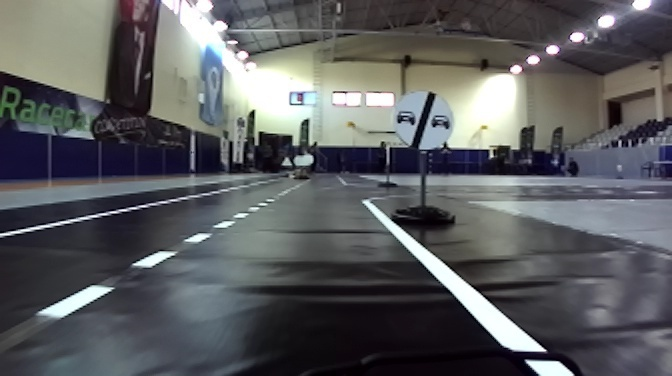sollama_serbest: (393, 90, 455, 152)
